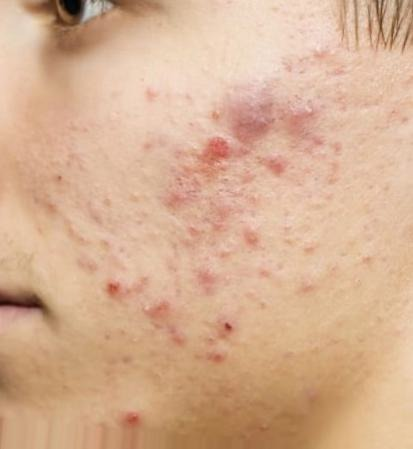Acne: (57, 53, 361, 370)
